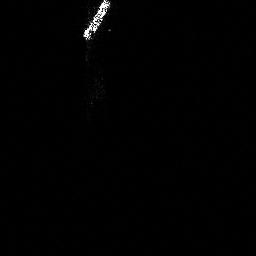ship: (80, 1, 111, 41)
